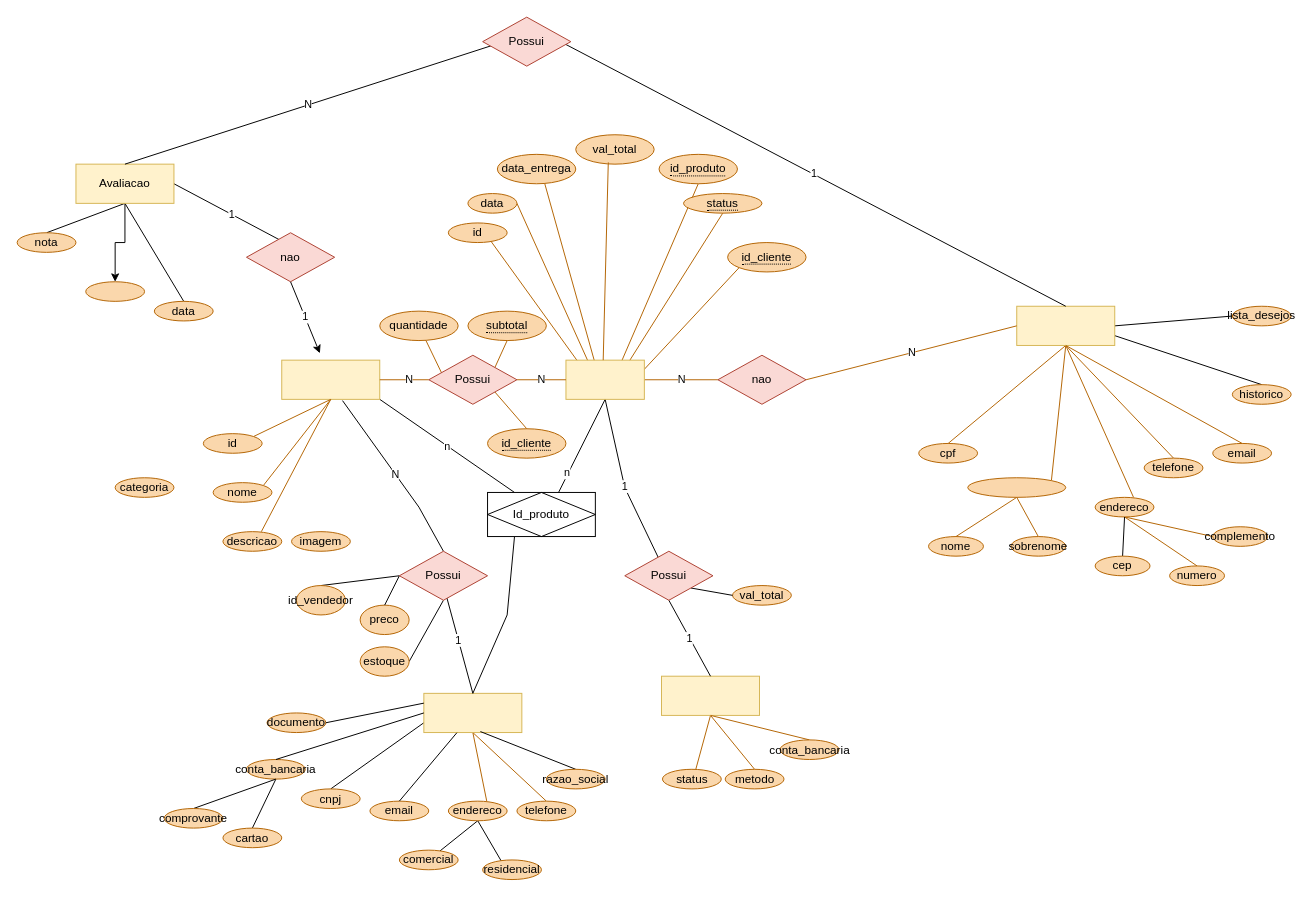
The diagram is 1312 pixels wide and 898 high, and some of its shapes have lost their labels. Each missing label, with the box of its shape:
Cliente: (1016, 305, 1115, 345)
nome_completo: (967, 477, 1066, 497)
Pagamento: (661, 675, 760, 715)
Pedido: (565, 359, 644, 399)
Produto: (281, 359, 380, 399)
texto: (85, 281, 145, 301)
Vendedor: (423, 692, 522, 733)
